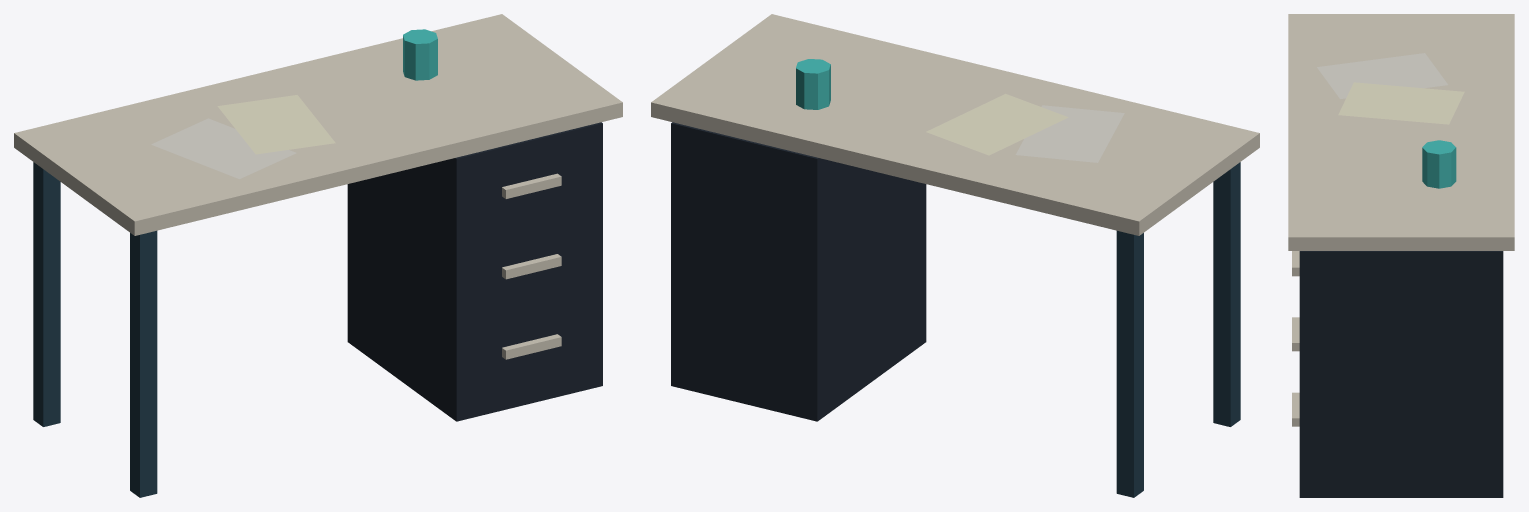
File: mesa_gaveteiro.glb
The picture shows the model from 3 angles, left to right: view 1: azimuth 30°, elevation 25°; view 2: azimuth 150°, elevation 25°; view 3: azimuth 270°, elevation 25°; orthographic projection. The views are drawn at different scales.
Visible parts, largest first — view 1: mesa_gaveteiro_malha; view 2: mesa_gaveteiro_malha; view 3: mesa_gaveteiro_malha.
Boxes of the visible parts, x1=… form: mesa_gaveteiro_malha: x1=14, y1=14, x2=622, y2=497; mesa_gaveteiro_malha: x1=651, y1=14, x2=1259, y2=497; mesa_gaveteiro_malha: x1=1288, y1=14, x2=1514, y2=497.
Size of the model in its own units: 1.4 by 0.88 by 0.6.
